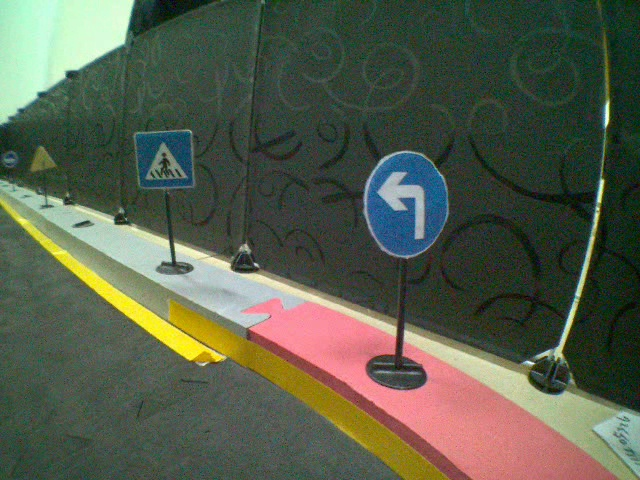crossing: (133, 130, 195, 190)
horn: (1, 150, 17, 171)
turn: (363, 147, 452, 261)
